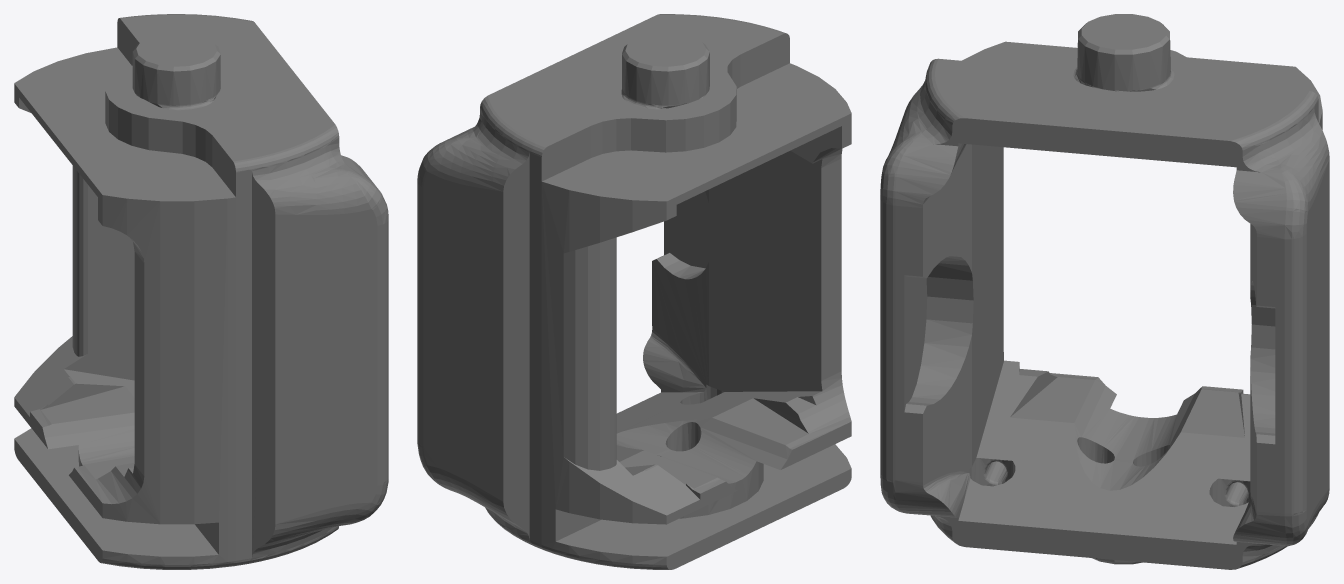
Rendered from rh_thumb_metacarpals_base2_vis.obj.
3 renders of one model, left to right at view 1: azimuth 30°, elevation 25°; view 2: azimuth 150°, elevation 25°; view 3: azimuth 270°, elevation 25°, orthographic. The views are drawn at different scales.
Visible parts, largest first — view 1: rh_thumb_metacarpals_base2; view 2: rh_thumb_metacarpals_base2; view 3: rh_thumb_metacarpals_base2.
Boxes of the visible parts, bbox=[...] form: rh_thumb_metacarpals_base2: bbox=[14, 14, 388, 569]; rh_thumb_metacarpals_base2: bbox=[417, 14, 851, 569]; rh_thumb_metacarpals_base2: bbox=[880, 14, 1329, 569].
Size of the model in its own units: 0.0193 by 0.03 by 0.0237.
Materials: 1 (1 with a texture image).
